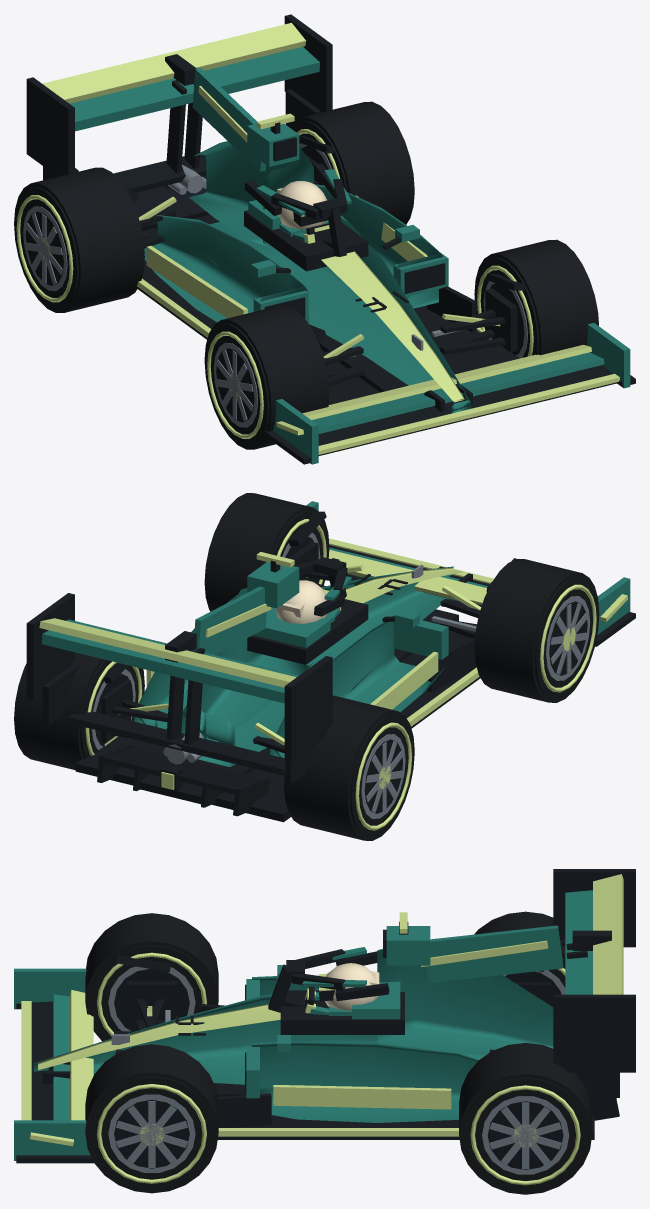
File: verdant-31.glb
3 views of the same model, one above another, from view 1: azimuth 30°, elevation 25°; view 2: azimuth 150°, elevation 25°; view 3: azimuth 270°, elevation 25° (orthographic).
Visible parts, largest first — view 1: formula-31, wheel (×4); view 2: formula-31, wheel (×4); view 3: formula-31, wheel (×4).
Part boxes in pixels (<box>): formula-31: <box>26,14,635,464</box>; wheel (×4): <box>14,101,598,449</box>; formula-31: <box>26,501,635,822</box>; wheel (×4): <box>14,493,599,840</box>; formula-31: <box>14,869,635,1163</box>; wheel (×4): <box>85,911,592,1194</box>.
Bounding box in the file's own units: 3.41 × 1.85 × 5.41.
